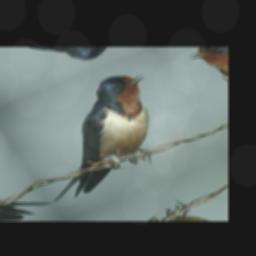Swallow: (0, 66, 195, 206)
